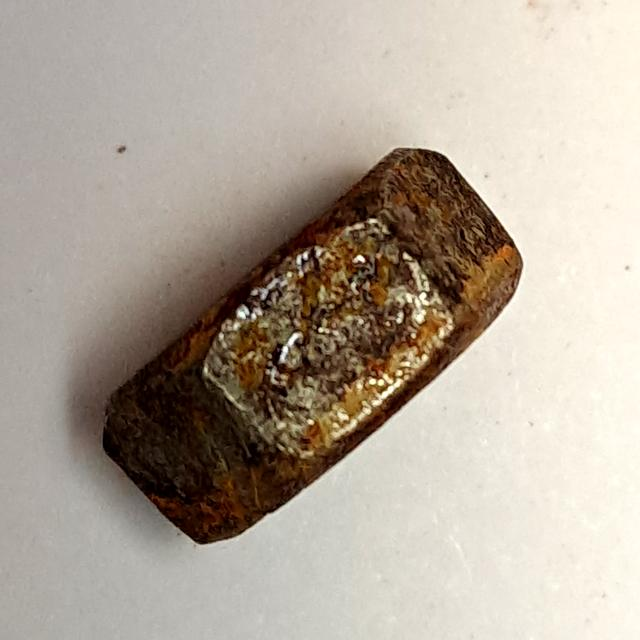Side_Rust: (87, 124, 542, 573)
